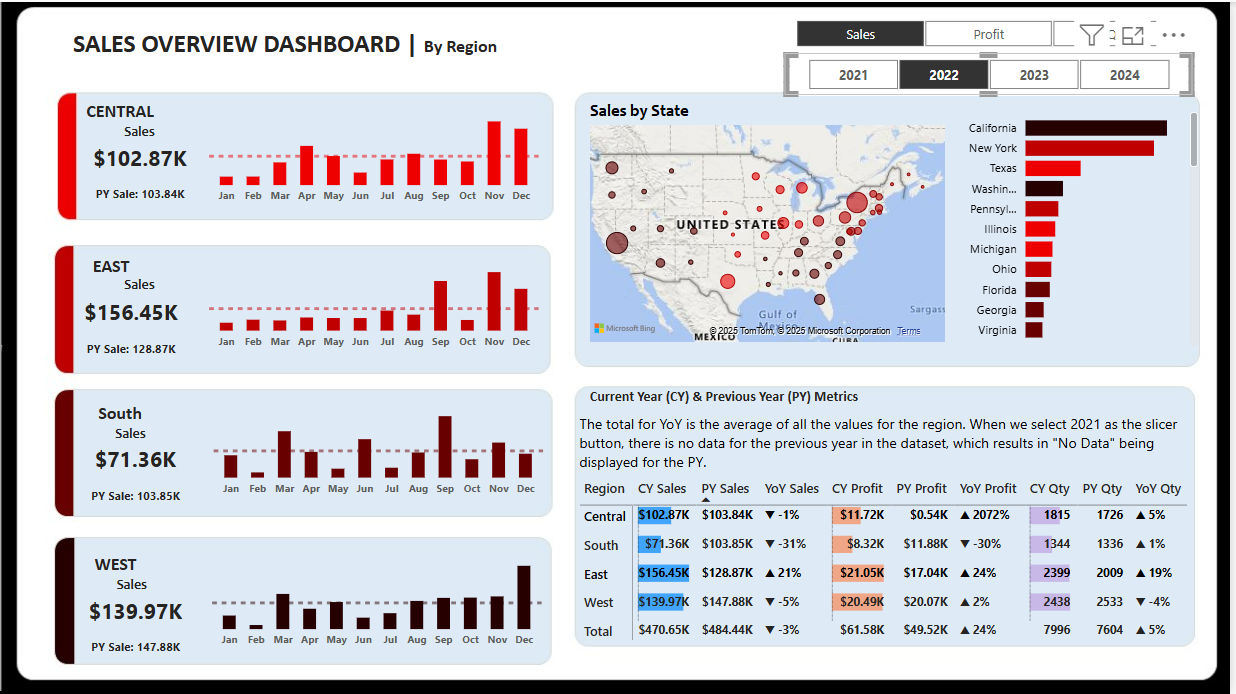

The dashboard page shown, as its layout file describes it:
{"tool":"powerbi","page":{"name":"Page 1","canvas":[1280,720],"ordinal":0},"visuals":[{"type":"slicer","fields":{"Values":["Select Metric.Select Metric"]},"box":[804.3,12.5,448.2,40.6],"z":0},{"type":"card","fields":{"Values":["Sales Data.Total Sales"]},"box":[68.7,140.6,156.2,45.3],"z":1000},{"type":"textbox","box":[79.7,96.8,90.6,43.7],"z":2000},{"type":"slicer","fields":{"Values":["Calendar Table.Year"]},"box":[817,52.5,424.4,44.5],"z":3000},{"type":"card","fields":{"Values":["Sales Data.Dynamic Title"]},"box":[79.7,118.7,132.8,35.9],"z":4000},{"type":"card","fields":{"Values":["Sales Data.PY KPI Sales"]},"box":[79.7,185.9,132.8,32.8],"z":5000},{"type":"clusteredColumnChart","fields":{"Y":["Sales Data.Total Sales"],"Category":["Calendar Table.Month"]},"box":[212.4,106.2,354.5,112.5],"z":6000},{"type":"textbox","box":[32.8,21.9,534.1,48.4],"z":7000},{"type":"card","fields":{"Values":["Sales Data.Total Sales"]},"box":[60,301.5,156.2,45.3],"z":8000},{"type":"textbox","box":[70.9,257.8,90.6,43.7],"z":9000},{"type":"card","fields":{"Values":["Sales Data.PY KPI Sales"]},"box":[70.9,346.8,132.8,32.8],"z":10000},{"type":"clusteredColumnChart","fields":{"Y":["Sales Data.Total Sales"],"Category":["Calendar Table.Month"]},"box":[212.4,257.7,354.5,112.5],"z":11000},{"type":"card","fields":{"Values":["Sales Data.Total Sales"]},"box":[64.8,455.2,156.2,45.3],"z":12000},{"type":"textbox","box":[79.7,410.8,90.6,43.7],"z":13000},{"type":"card","fields":{"Values":["Sales Data.PY KPI Sales"]},"box":[75.7,500.5,132.8,32.8],"z":14000},{"type":"clusteredColumnChart","fields":{"Y":["Sales Data.Total Sales"],"Category":["Calendar Table.Month"]},"box":[217.2,411.4,354.5,112.5],"z":15000},{"type":"card","fields":{"Values":["Sales Data.Total Sales"]},"box":[63.7,612.5,156.2,45.3],"z":16000},{"type":"textbox","box":[74.7,568.7,90.6,43.7],"z":17000},{"type":"card","fields":{"Values":["Sales Data.PY KPI Sales"]},"box":[74.7,657.7,132.8,32.8],"z":18000},{"type":"clusteredColumnChart","fields":{"Y":["Sales Data.Total Sales"],"Category":["Calendar Table.Month"]},"box":[216.2,568.6,354.5,112.5],"z":19000},{"type":"card","fields":{"Values":["Sales Data.Dynamic Title"]},"box":[79.7,278,132.8,35.9],"z":20000},{"type":"card","fields":{"Values":["Sales Data.Dynamic Title"]},"box":[70.3,432.6,132.8,35.9],"z":21000},{"type":"card","fields":{"Values":["Sales Data.Dynamic Title"]},"box":[71.8,589.6,132.3,35.9],"z":22000},{"type":"map","title":"Sales by State","fields":{"Size":["Sales Data.Total Sales"],"Category":["Sales Data.State/Province"],"Series":["Sales Data.Region"]},"box":[609.1,101.5,379.5,257.7],"z":23000},{"type":"barChart","fields":{"Y":["Sales Data.Total Sales"],"Category":["Sales Data.State/Province"],"Series":["Sales Data.Region"]},"box":[988.6,101.5,263.9,262.4],"z":24000},{"type":"pivotTable","fields":{"Rows":["Sales Data.Region"],"Values":["Sales Data.CY Sales","Sales Data.PY Sales","Sales Data.YoY Sales","Sales Data.CY Profit","Sales Data.PY Profit","Sales Data.YoY Profit","Sales Data.CY Qty","Sales Data.PY Qty","Sales Data.YoY Qty"]},"box":[598.2,490.4,643.5,190.5],"z":25000},{"type":"textbox","box":[609.1,395.1,299.9,37.5],"z":25001},{"type":"textbox","box":[598.2,423.3,654.4,76.5],"z":25002}]}

Visuals, with their boxes in screenshot pixels (x1, y1, x2, y2), scaled from the page's 1280x720 canvas onto the 1236x694 screenshot:
slicer - Select Metric.Select Metric: 777:12:1209:51
card - Sales Data.Total Sales: 66:136:217:179
textbox: 77:93:164:135
slicer - Calendar Table.Year: 789:51:1199:93
card - Sales Data.Dynamic Title: 77:114:205:149
card - Sales Data.PY KPI Sales: 77:179:205:211
clusteredColumnChart - Sales Data.Total Sales x Calendar Table.Month: 205:102:547:211
textbox: 32:21:547:68
card - Sales Data.Total Sales: 58:291:209:334
textbox: 68:248:156:291
card - Sales Data.PY KPI Sales: 68:334:197:366
clusteredColumnChart - Sales Data.Total Sales x Calendar Table.Month: 205:248:547:357
card - Sales Data.Total Sales: 63:439:213:482
textbox: 77:396:164:438
card - Sales Data.PY KPI Sales: 73:482:201:514
clusteredColumnChart - Sales Data.Total Sales x Calendar Table.Month: 210:397:552:505
card - Sales Data.Total Sales: 62:590:212:634
textbox: 72:548:160:590
card - Sales Data.PY KPI Sales: 72:634:200:666
clusteredColumnChart - Sales Data.Total Sales x Calendar Table.Month: 209:548:551:657
card - Sales Data.Dynamic Title: 77:268:205:303
card - Sales Data.Dynamic Title: 68:417:196:452
card - Sales Data.Dynamic Title: 69:568:197:603
"Sales by State" map: 588:98:955:346
barChart - Sales Data.Total Sales x Sales Data.State/Province: 955:98:1209:351
pivotTable - Sales Data.Region x Sales Data.CY Sales: 578:473:1199:656
textbox: 588:381:878:417
textbox: 578:408:1210:482
